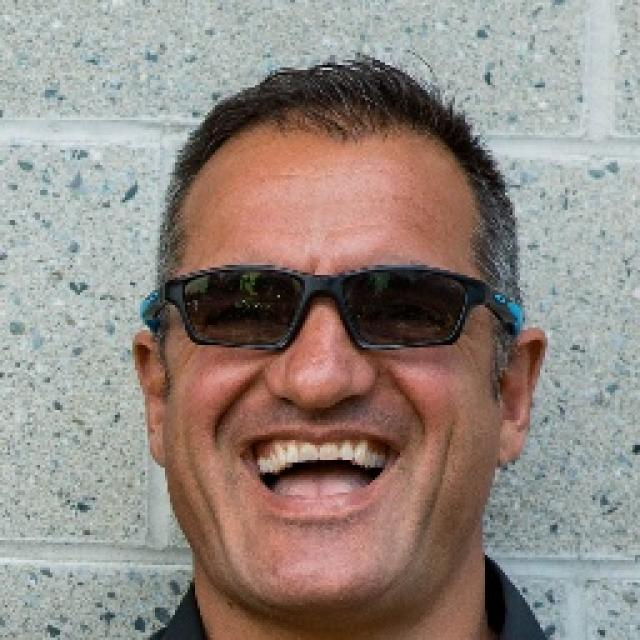earlobe: (497, 428, 527, 465), (146, 439, 168, 474)
eye: (370, 299, 446, 337), (210, 298, 275, 333)
nose: (263, 389, 379, 421)
wholeear: (493, 328, 548, 465), (129, 328, 170, 467)
